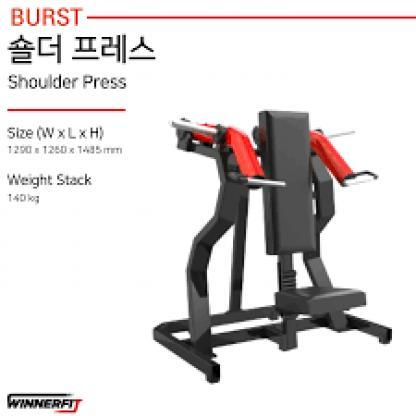shoulder press machine: (144, 97, 394, 389)
